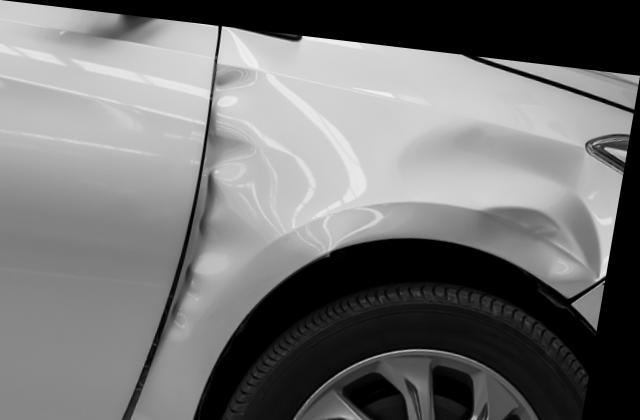dent: (407, 107, 608, 275), (178, 52, 265, 325)
